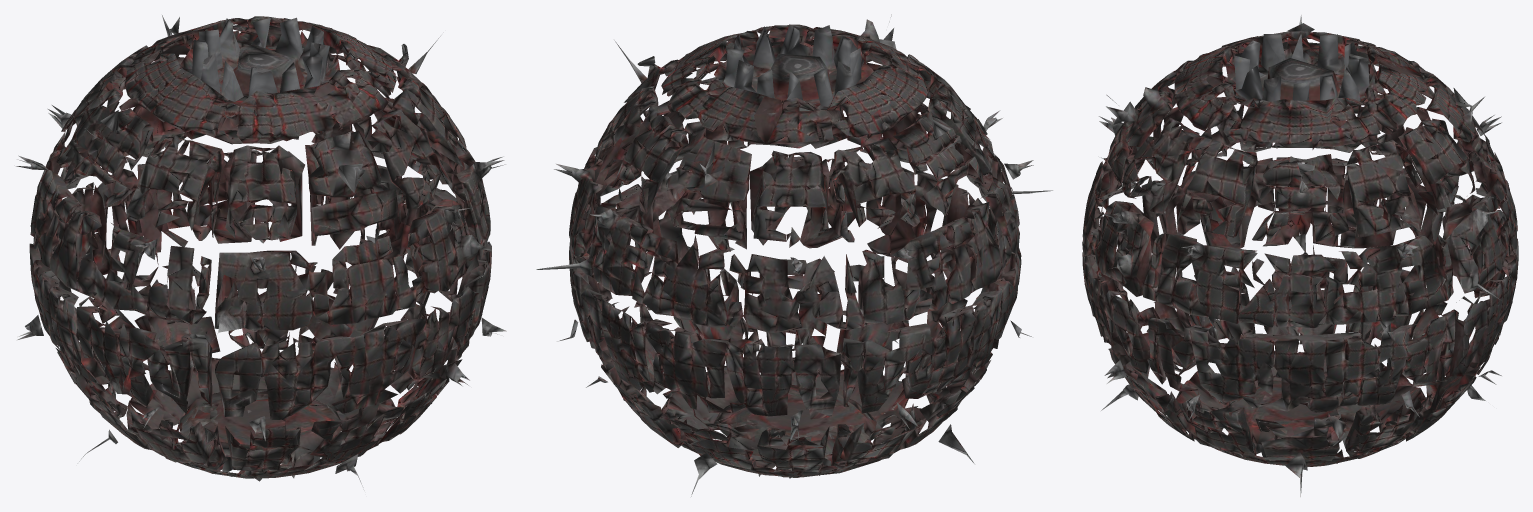
Rendered from worldbreaker.glb.
3 renders of one model, left to right at view 1: azimuth 30°, elevation 25°; view 2: azimuth 150°, elevation 25°; view 3: azimuth 270°, elevation 25°, orthographic. The views are drawn at different scales.
Bounding box in the file's own units: 1.73 × 1.7 × 1.73.
1 material, 1 textured.
